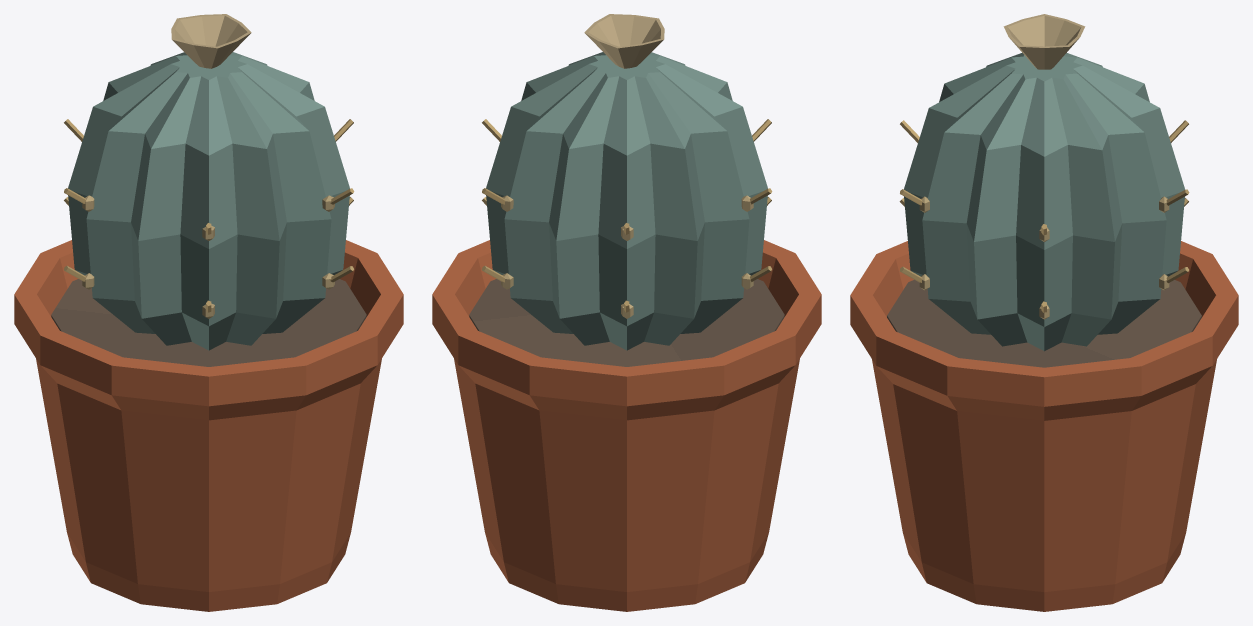
Rendered from new-magnifica.glb.
3 views of the same model, side by side, from view 1: azimuth 30°, elevation 25°; view 2: azimuth 150°, elevation 25°; view 3: azimuth 270°, elevation 25° (orthographic).
Visible parts, largest first — view 1: new-magnifica/review-terra-vessel, new-magnifica/ribbed-stem-001, new-magnifica/review-rooted-soil, new-magnifica/hollow-corolla-026; view 2: new-magnifica/review-terra-vessel, new-magnifica/ribbed-stem-001, new-magnifica/review-rooted-soil, new-magnifica/hollow-corolla-026; view 3: new-magnifica/review-terra-vessel, new-magnifica/ribbed-stem-001, new-magnifica/review-rooted-soil, new-magnifica/hollow-corolla-026.
Part boxes in pixels (x1,y1,x2,y2): new-magnifica/review-terra-vessel: (14, 240, 403, 611); new-magnifica/ribbed-stem-001: (68, 52, 349, 350); new-magnifica/review-rooted-soil: (51, 279, 366, 366); new-magnifica/hollow-corolla-026: (171, 14, 251, 68); new-magnifica/review-terra-vessel: (432, 240, 821, 611); new-magnifica/ribbed-stem-001: (486, 52, 767, 350); new-magnifica/review-rooted-soil: (469, 279, 784, 366); new-magnifica/hollow-corolla-026: (584, 14, 664, 68); new-magnifica/review-terra-vessel: (850, 241, 1238, 611); new-magnifica/ribbed-stem-001: (904, 53, 1184, 351); new-magnifica/review-rooted-soil: (887, 279, 1201, 367); new-magnifica/hollow-corolla-026: (1003, 14, 1085, 69).
Bounding box in the file's own units: 0.19 × 0.282 × 0.19.
Materials: 7 (7 with a texture image).
